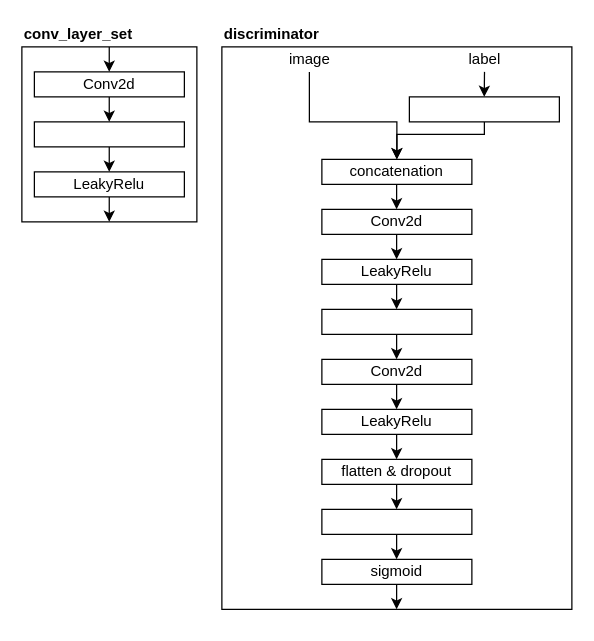
Some shapes in this 594 by 641 pixel diagram are drawn without their labels. The centre of each missing label's shape, as x and y in pixels:
"BatchNorm2d" belongs at pixel 108 134.
"conv_layer_set (x3)" belongs at pixel 396 321.
"dense" belongs at pixel 396 521.
"embedding layer" belongs at pixel 483 109.
